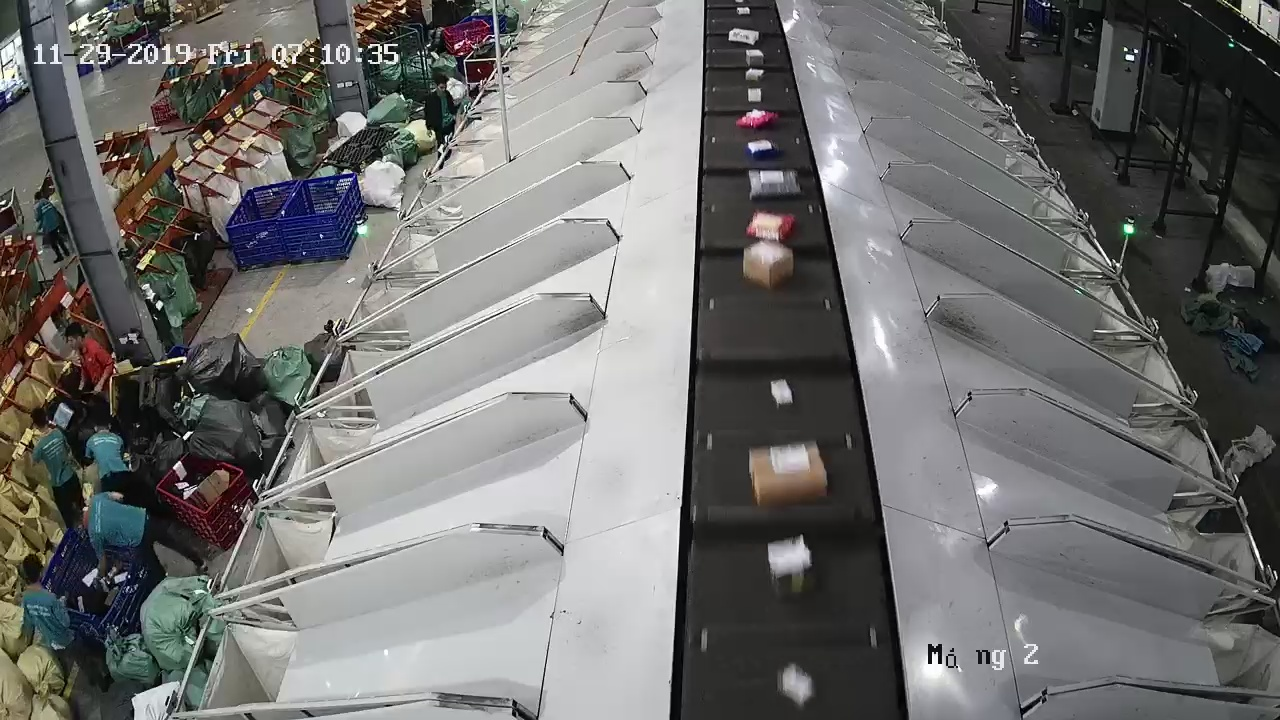parcel: (748, 440, 828, 507), (767, 534, 813, 600), (742, 240, 794, 290), (748, 168, 803, 201), (745, 209, 798, 241), (777, 662, 814, 706), (735, 108, 779, 130), (744, 138, 779, 159), (770, 378, 793, 408)
